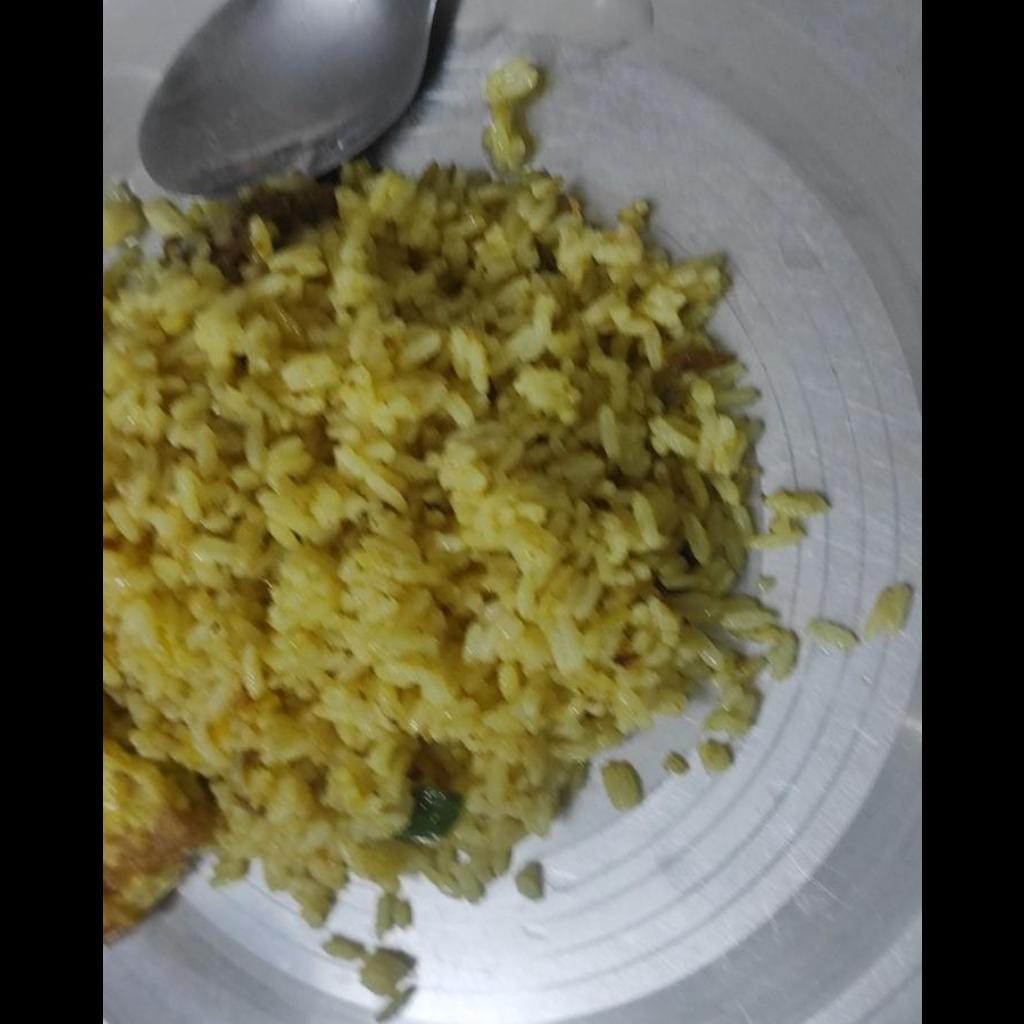khichuri: (102, 158, 831, 959)
